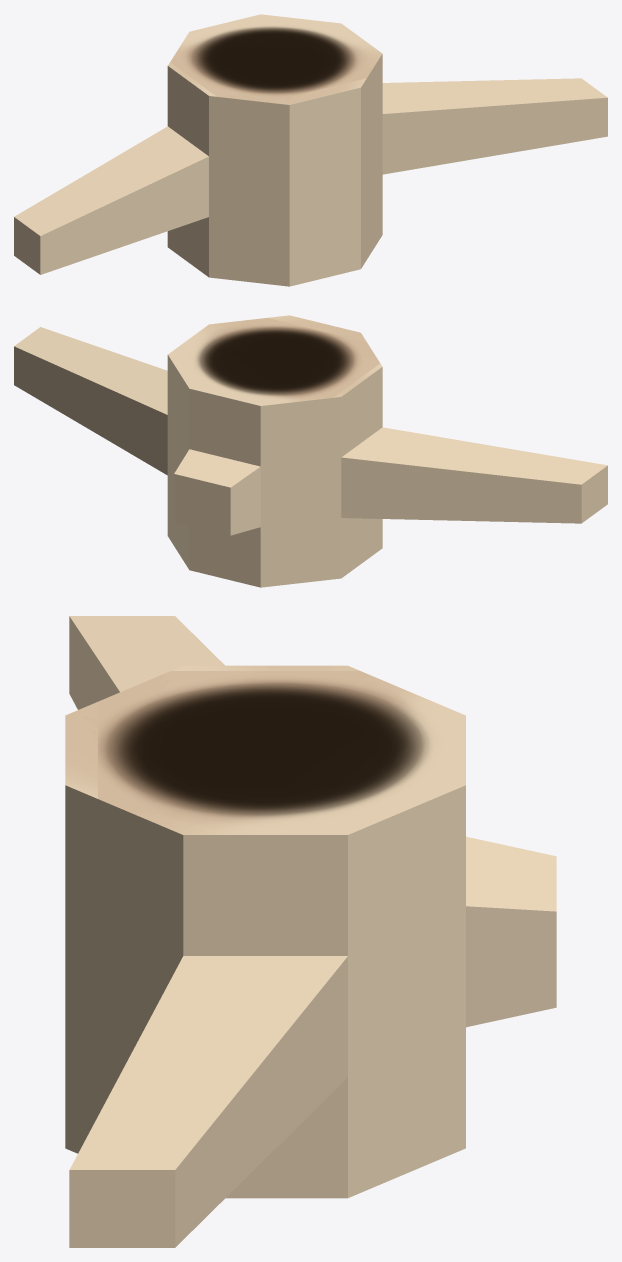
3 renders of one model, top to bottom at view 1: azimuth 30°, elevation 25°; view 2: azimuth 150°, elevation 25°; view 3: azimuth 270°, elevation 25°, orthographic. The views are drawn at different scales.
Parts seen in each view (by area): view 1: Vertebrae1; view 2: Vertebrae1; view 3: Vertebrae1.
Boxes of the visible parts, x1,y1,x2,y2 form: Vertebrae1: (14,14,607,286); Vertebrae1: (14,315,607,587); Vertebrae1: (65,616,556,1247).
Size of the model in its own units: 197 by 60.39 by 74.07.
